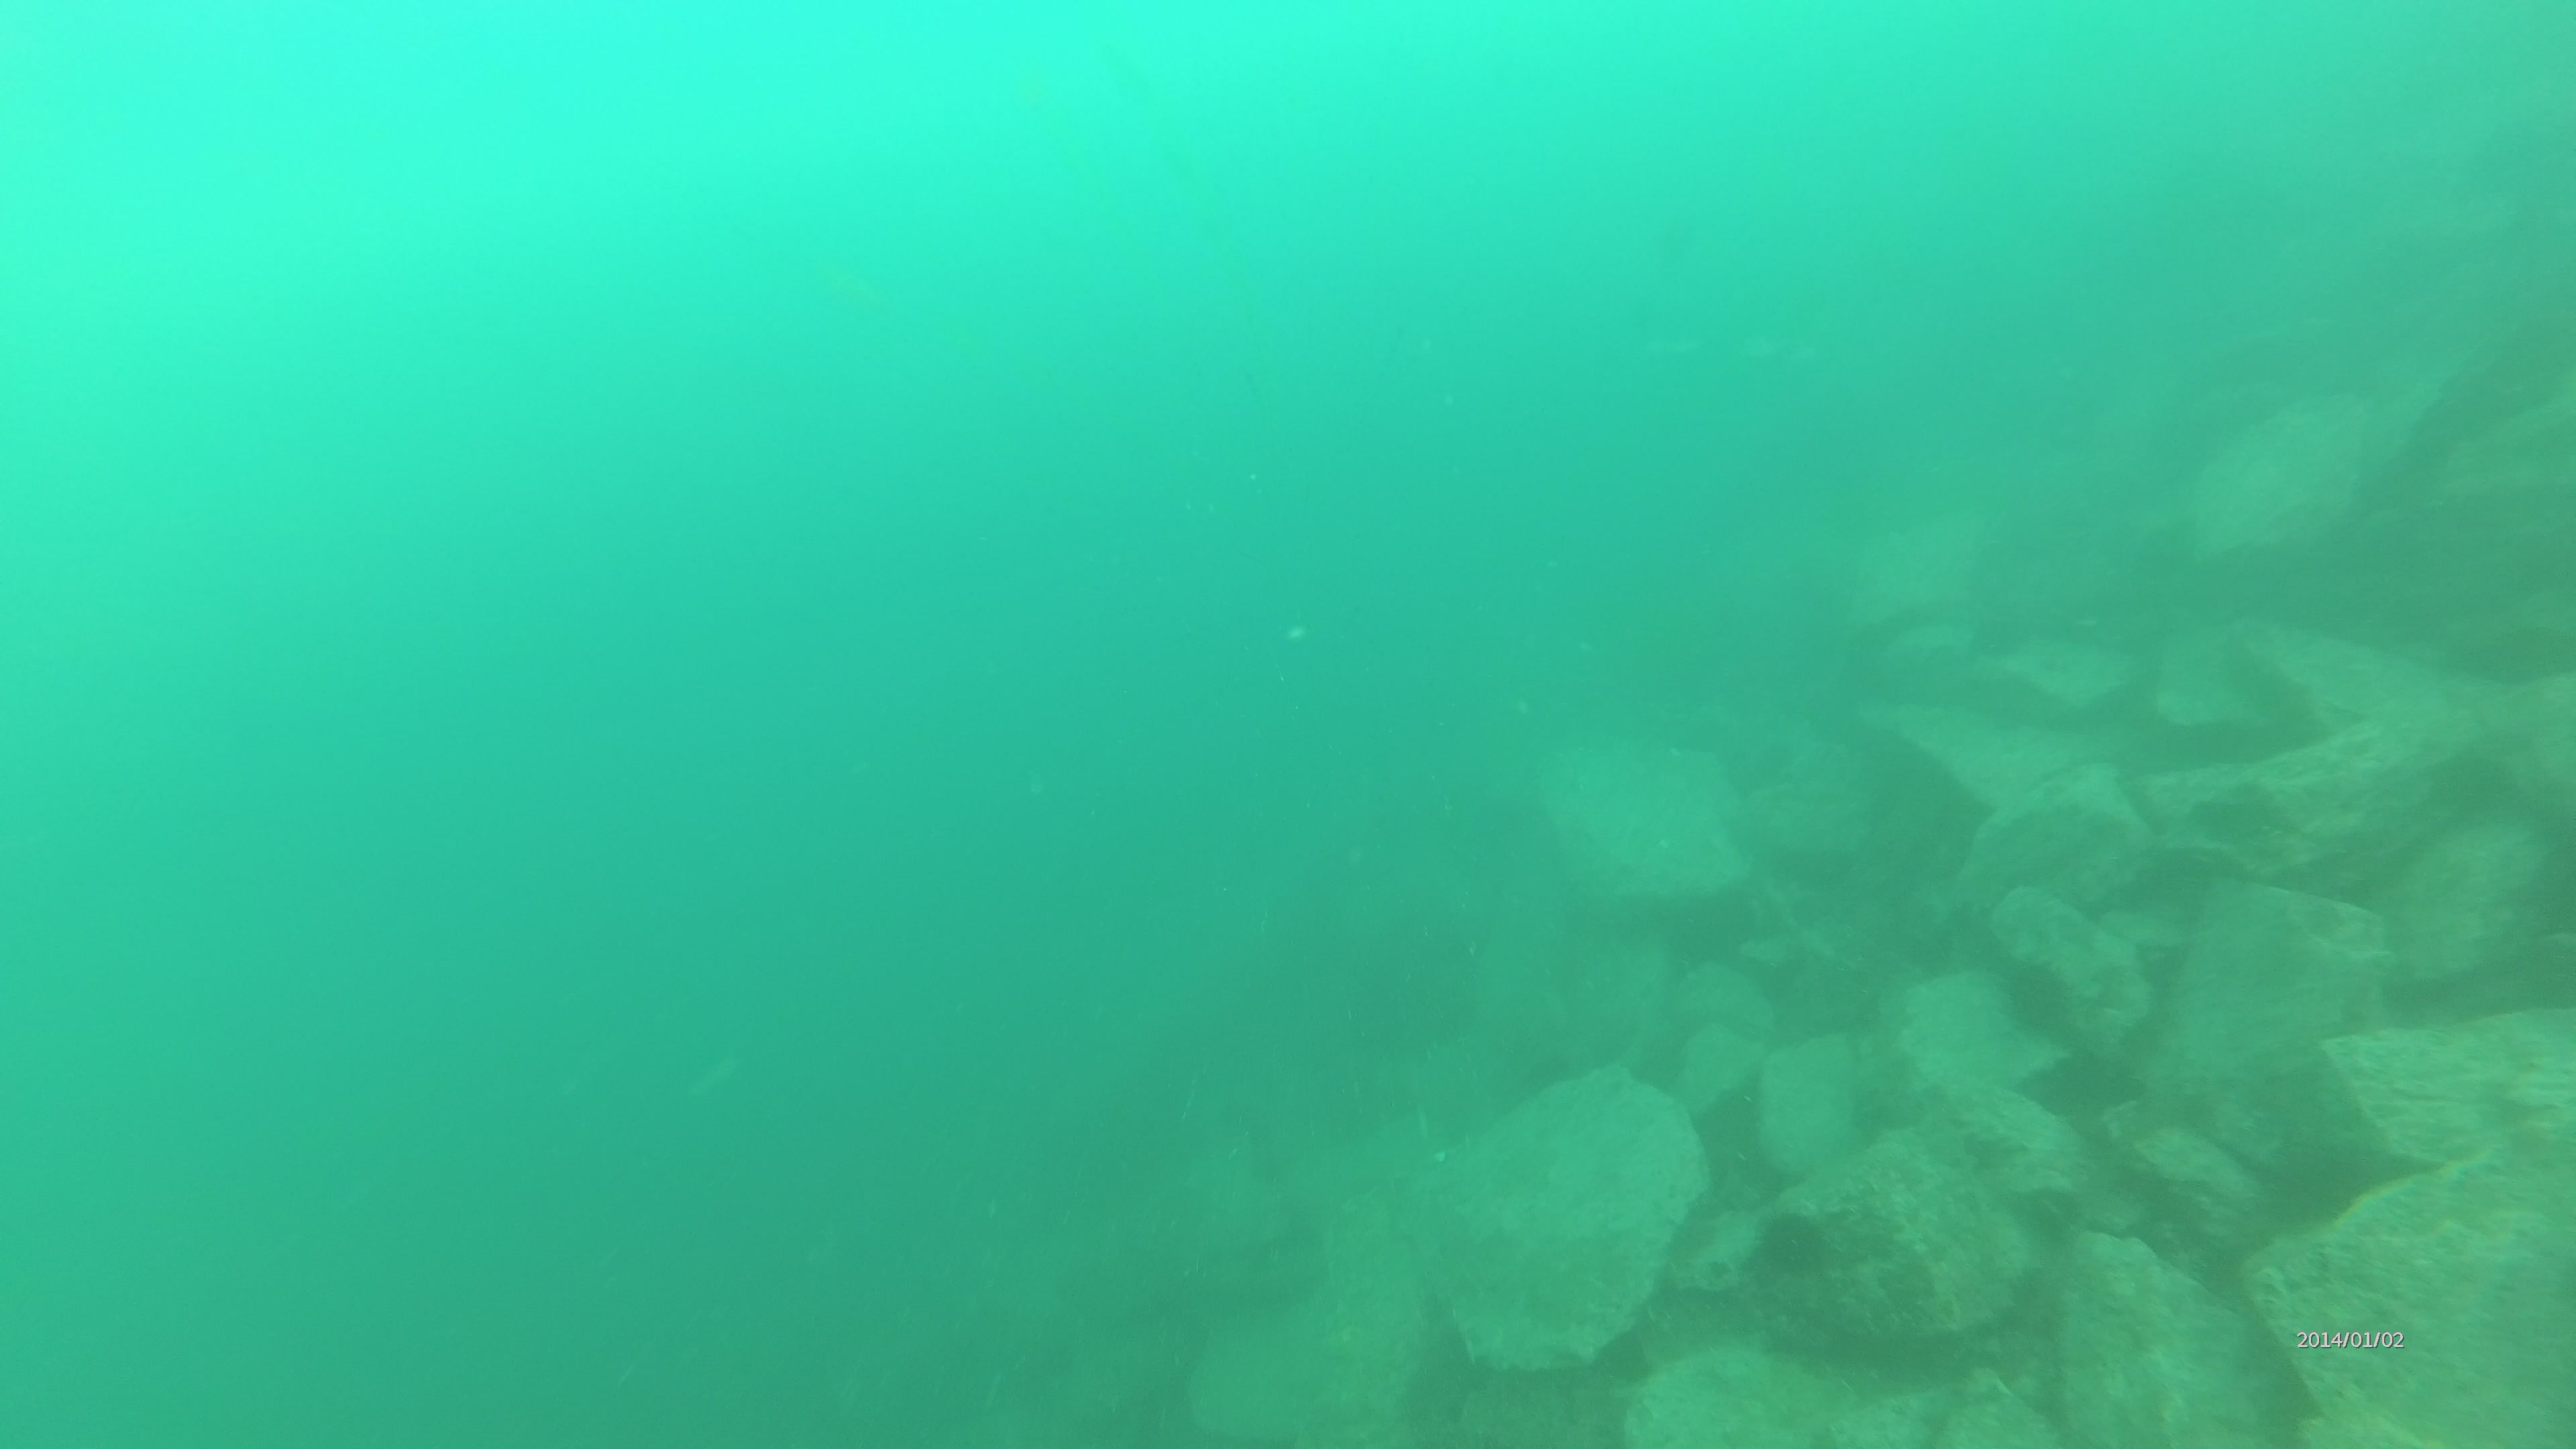echinus: (1753, 1208, 1835, 1283)
